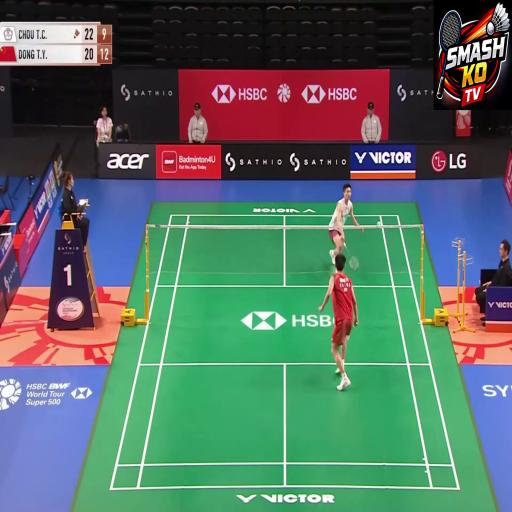player: (319, 244, 368, 400), (321, 178, 363, 271)
